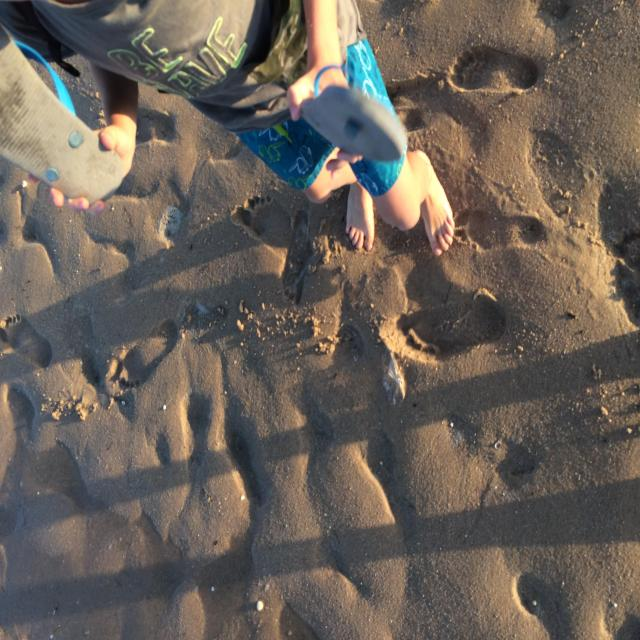litter: (3, 37, 120, 199)
